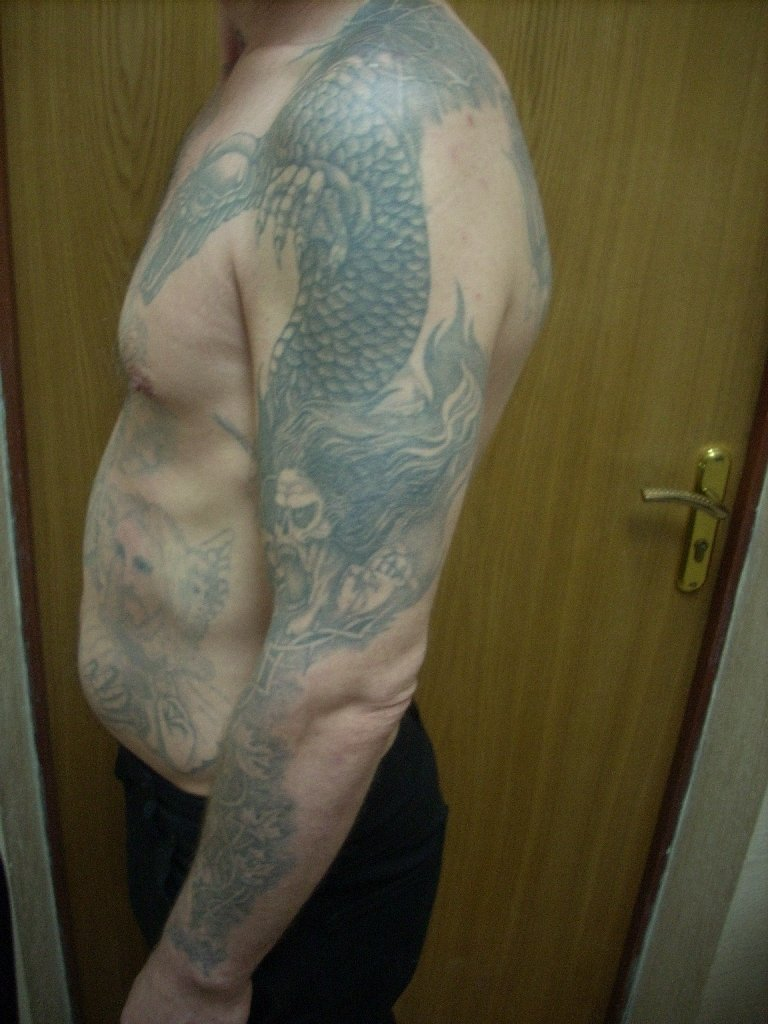tatu6_drakon: (137, 21, 531, 675)
